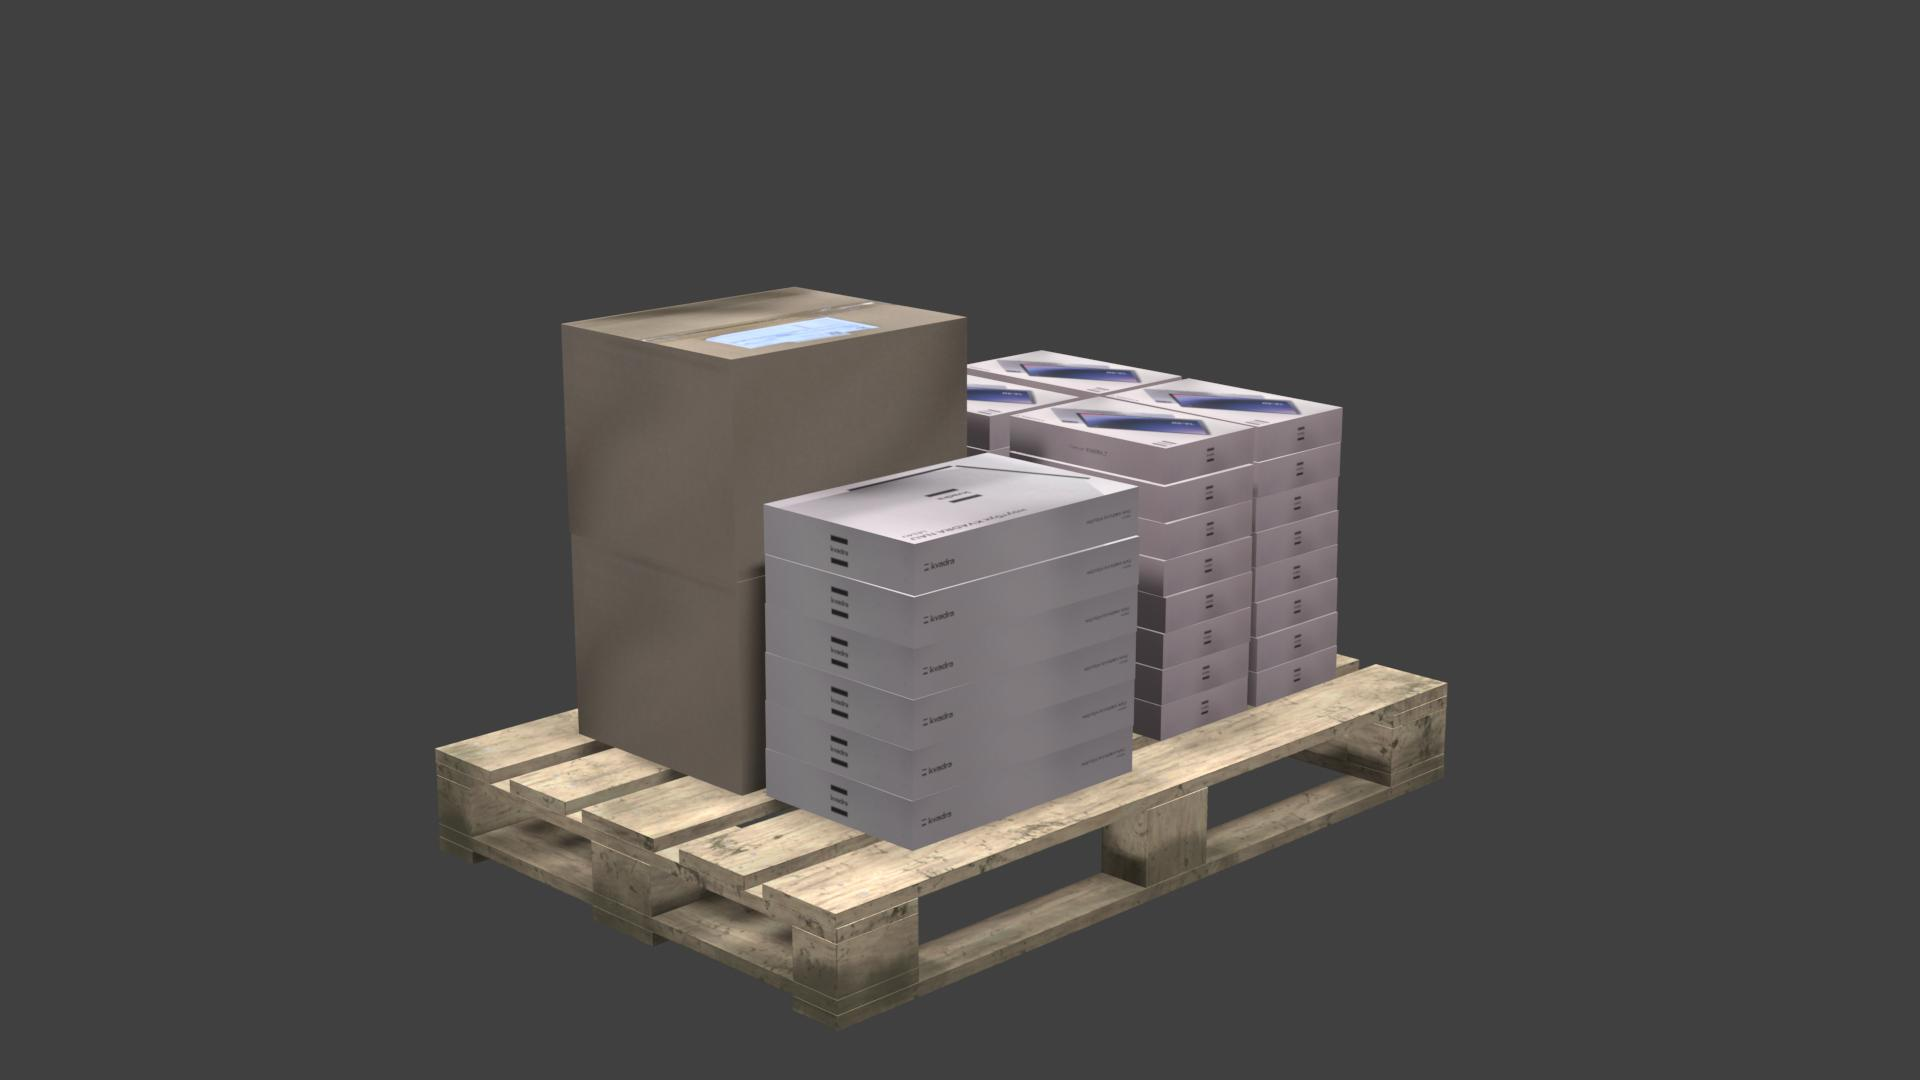group_box_left: (562, 318, 968, 582), (571, 535, 765, 796)
group_box_top: (563, 286, 967, 360)
laptop_left: (765, 727, 1133, 851), (766, 679, 1134, 800), (766, 632, 1135, 750), (766, 584, 1138, 699), (765, 538, 1138, 647), (764, 488, 1139, 596)
laptop_top: (765, 452, 1138, 545)
palet: (434, 654, 1448, 1033)
tablet_left: (1009, 451, 1253, 524), (1010, 417, 1254, 485), (1133, 678, 1249, 741), (1134, 642, 1249, 705), (1137, 608, 1250, 670), (1138, 500, 1251, 560), (1138, 572, 1251, 633), (1139, 537, 1251, 596), (1247, 646, 1336, 707), (1249, 613, 1337, 671), (1250, 579, 1337, 637), (1253, 545, 1337, 603), (1253, 476, 1338, 533), (1253, 510, 1338, 567), (1254, 409, 1342, 463), (1254, 443, 1340, 498)
tablet_top: (1010, 397, 1253, 450), (1108, 378, 1342, 427), (968, 351, 1180, 394), (968, 375, 1079, 417)
